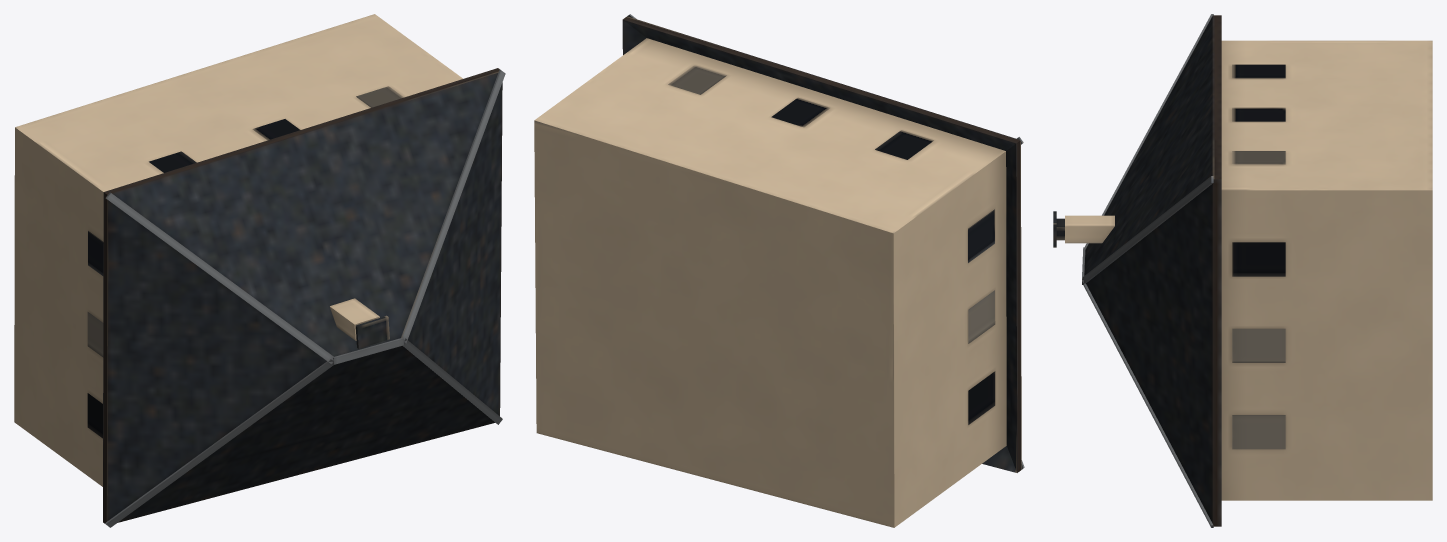
File: house_b0285.obj
3 views of the same model, side by side, from view 1: azimuth 30°, elevation 25°; view 2: azimuth 150°, elevation 25°; view 3: azimuth 270°, elevation 25° (orthographic).
Parts seen in each view (by area): view 1: house_b0285; view 2: house_b0285; view 3: house_b0285.
Part boxes in pixels (x1=…): house_b0285: x1=14, y1=14, x2=505, y2=527; house_b0285: x1=534, y1=14, x2=1024, y2=527; house_b0285: x1=1053, y1=14, x2=1432, y2=527.
Bounding box in the file's own units: 12.17 × 10.54 × 10.03.
1 material, 1 textured.
